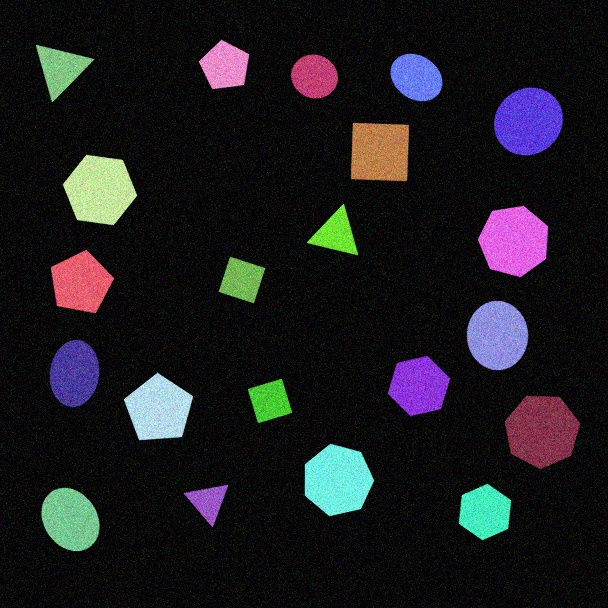Circulo: (493, 87, 564, 156), (466, 300, 529, 371), (290, 54, 339, 99)
Elipse: (41, 487, 100, 552), (49, 339, 100, 408), (390, 53, 443, 102)
Heptagono: (504, 395, 581, 470), (477, 205, 549, 278), (304, 443, 375, 517)
Hexagono: (62, 154, 138, 226), (387, 355, 451, 417), (458, 483, 512, 541)
Pentagono: (123, 372, 194, 441), (50, 249, 115, 314), (198, 39, 250, 90)
Quadrado: (350, 122, 410, 182), (218, 256, 266, 304), (247, 378, 293, 424)
Triangulo: (35, 44, 95, 103), (306, 204, 359, 256), (183, 484, 229, 528)
